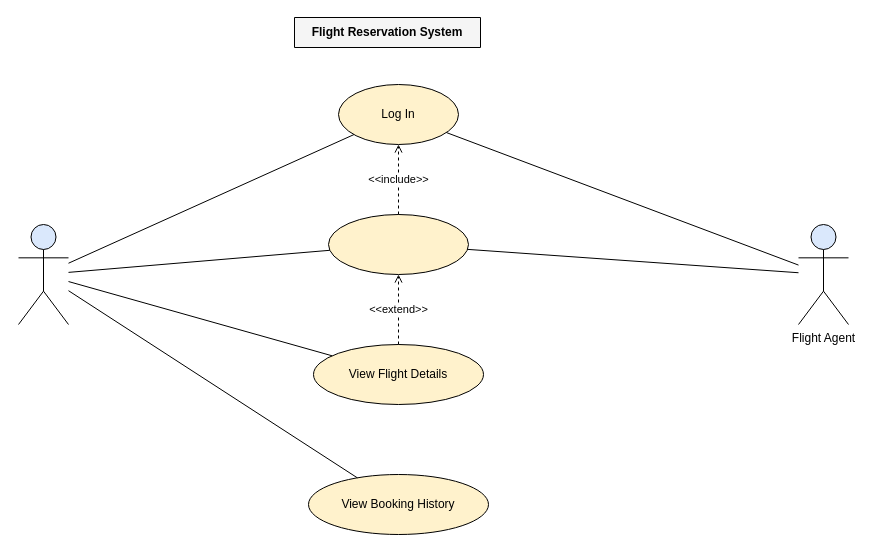
Image size: 872x552. Some labels were removed from this diagram. Each missing label, with the centre of its shape:
"Customer" belongs at point 43,274.
"Search Flights" belongs at point 398,244.
